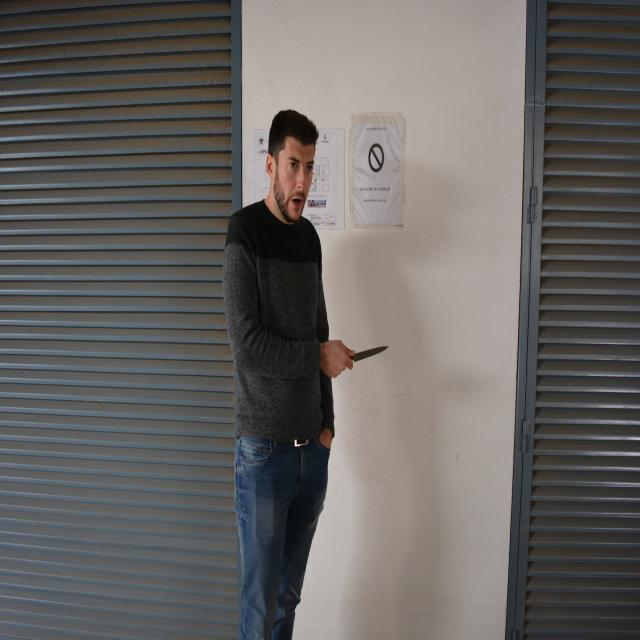knife: (350, 342, 390, 370)
